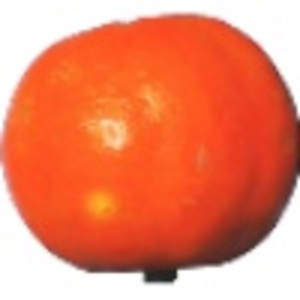tangerina: (2, 11, 300, 282)
